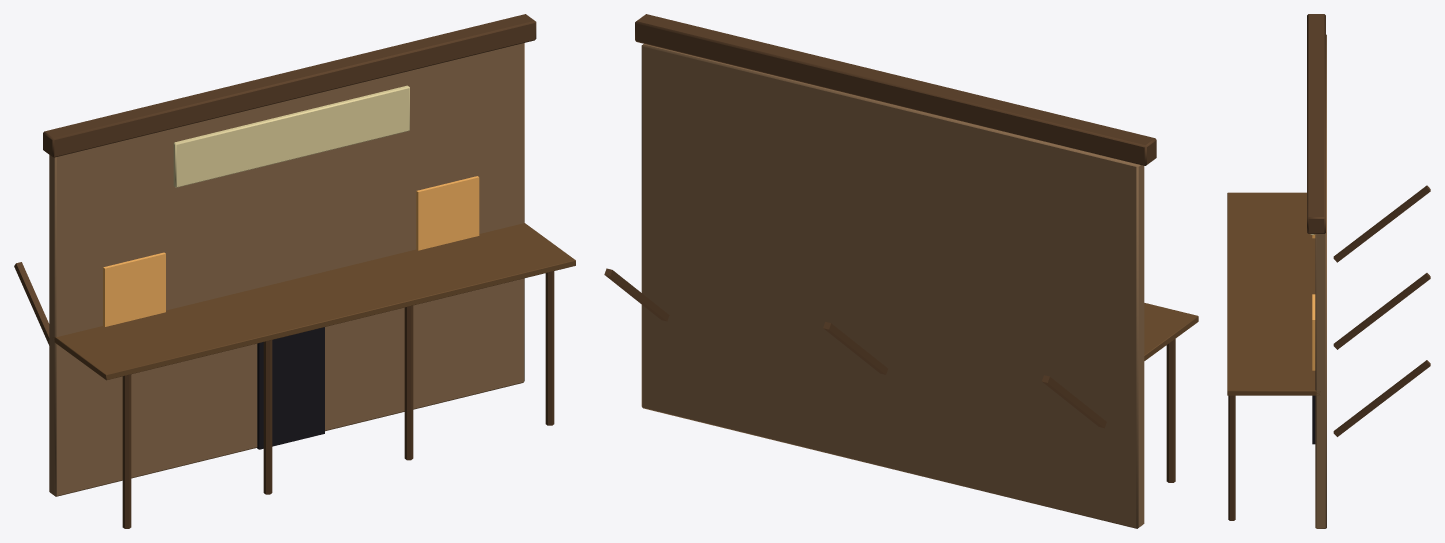
The model's file is set_front_western.glb.
3 renders of one model, left to right at view 1: azimuth 30°, elevation 25°; view 2: azimuth 150°, elevation 25°; view 3: azimuth 270°, elevation 25°, orthographic. The views are drawn at different scales.
Visible parts, largest first — view 1: set_front_western; view 2: set_front_western; view 3: set_front_western.
Boxes of the visible parts, x1,y1,x2,y2 form: set_front_western: (14,14,575,528); set_front_western: (604,14,1198,528); set_front_western: (1227,14,1430,528).
Bounding box in the file's own units: 10.3 × 7.4 × 4.33.
